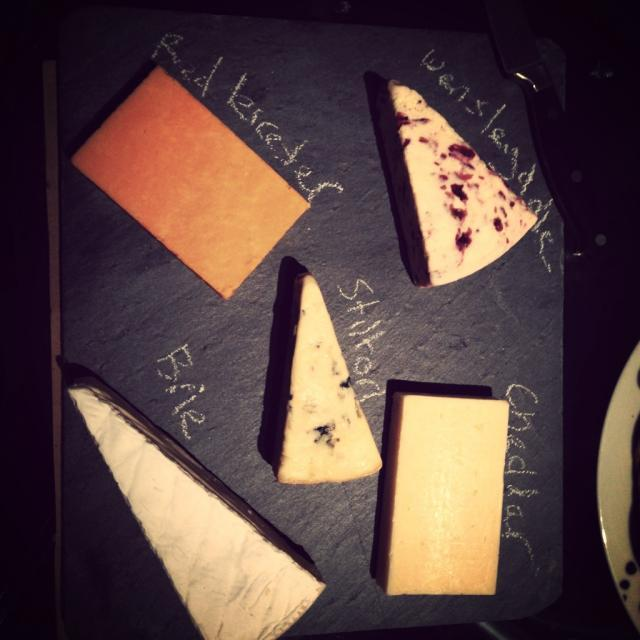Cheese: (65, 378, 327, 640), (70, 64, 310, 302), (386, 72, 545, 288), (378, 388, 514, 598), (275, 273, 387, 479)
